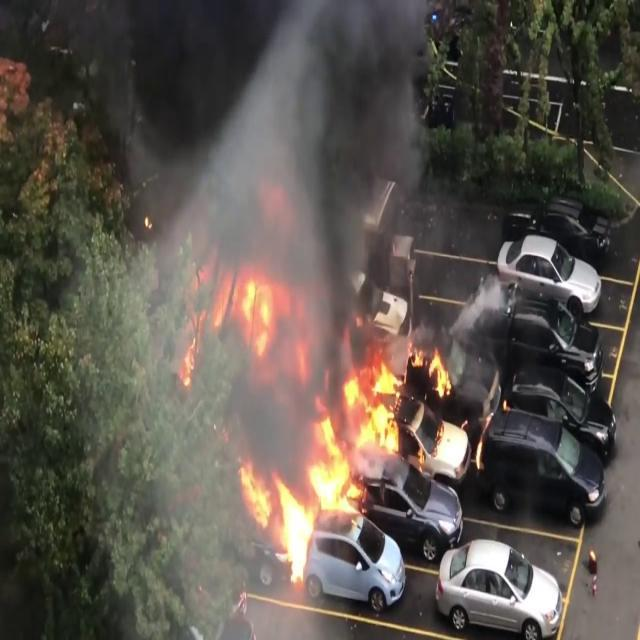Fire: (324, 284, 459, 491), (232, 389, 362, 592)
Smoke: (84, 0, 434, 371)
